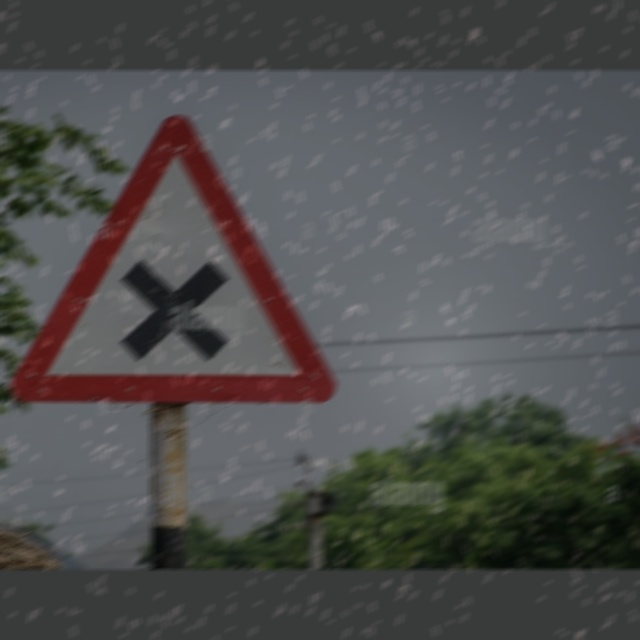Cross_Road: (31, 129, 334, 401)
